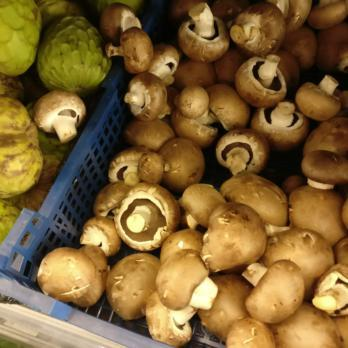Mushroom: (171, 1, 348, 346), (96, 0, 172, 321), (36, 246, 103, 305)
